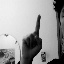d: (21, 13, 44, 57)
